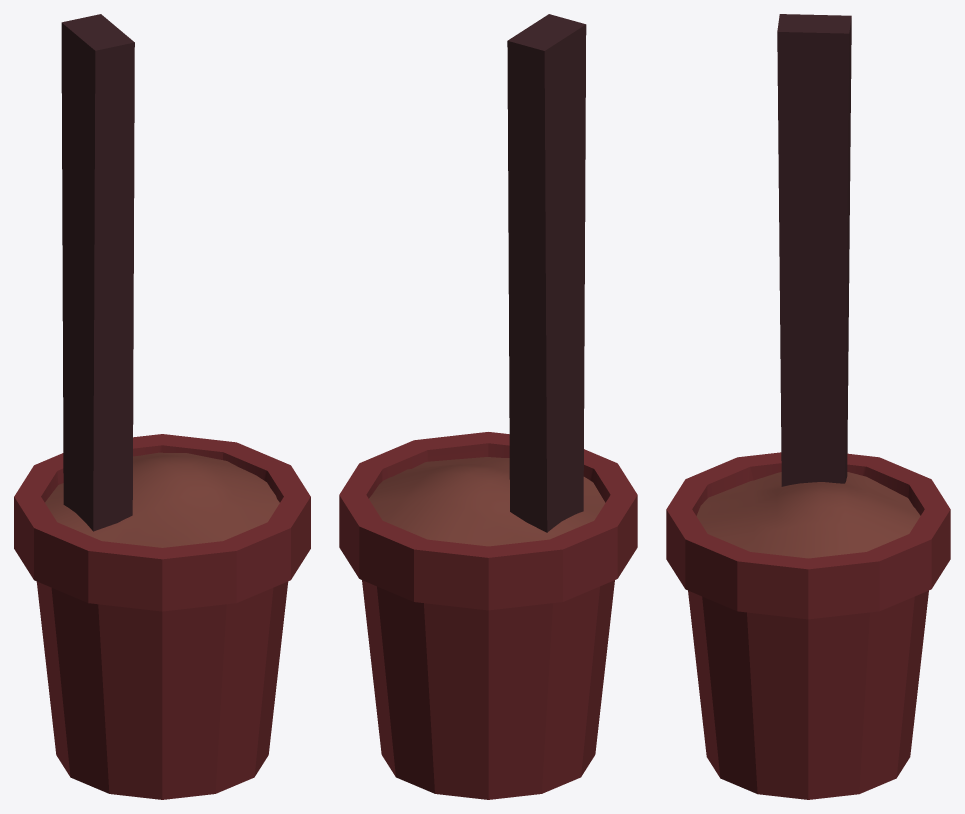
Rendered from potted plant 1.fbx.
The picture shows the model from 3 angles, left to right: view 1: azimuth 30°, elevation 25°; view 2: azimuth 150°, elevation 25°; view 3: azimuth 270°, elevation 25°; orthographic projection. The views are drawn at different scales.
Visible parts, largest first — view 1: polySurface3; view 2: polySurface3; view 3: polySurface3.
Boxes of the visible parts, <box> form: polySurface3: <box>14,14,310,799</box>; polySurface3: <box>339,14,637,799</box>; polySurface3: <box>666,14,950,799</box>.
Size of the model in its own units: 85.34 by 233 by 85.34.
